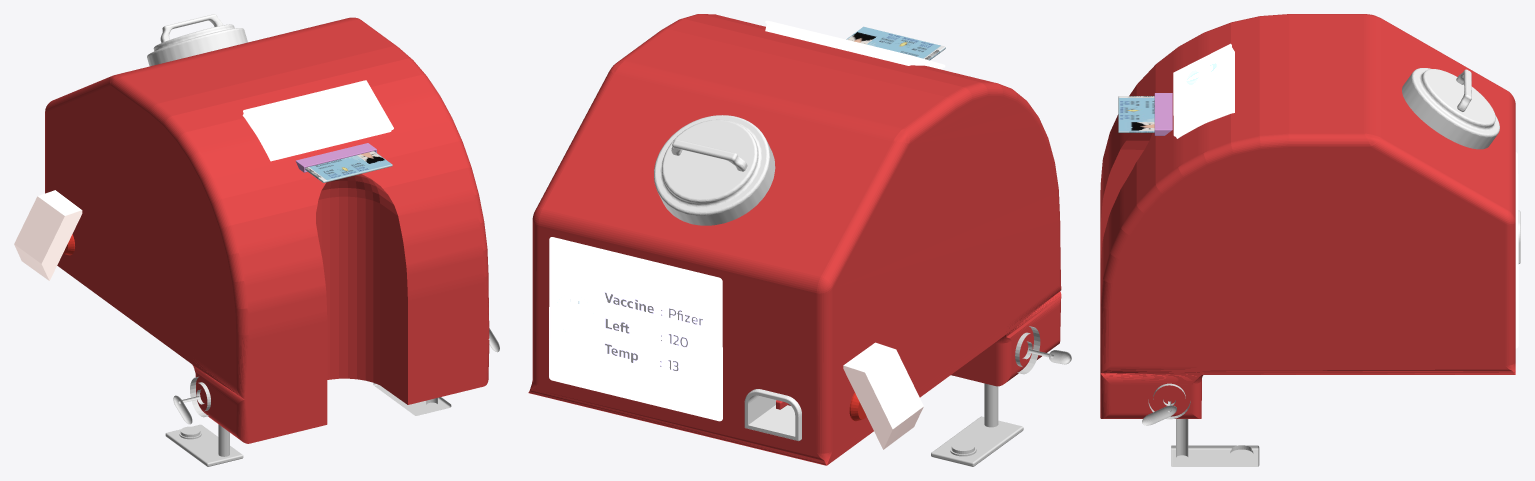
Rendered from prototype4.glb.
3 views of the same model, side by side, from view 1: azimuth 30°, elevation 25°; view 2: azimuth 150°, elevation 25°; view 3: azimuth 270°, elevation 25° (orthographic). The views are drawn at different scales.
Visible parts, largest first — view 1: Cube, Plane, Plane.003, Circle, Cylinder, Plane.004, Plane.002, Circle.001, Cylinder.002; view 2: Cube, Plane.001, Circle, Plane.003, Cylinder, Plug, Plane, Plane.004, Circle.001; view 3: Cube, Circle, Plane, Cylinder.002, Plane.004, Plane.002, Plane.001, Circle.002.
Boxes of the visible parts, bbox=[...] form: Cube: bbox=[45, 17, 489, 443]; Plane: bbox=[242, 80, 393, 161]; Plane.003: bbox=[14, 190, 82, 280]; Circle: bbox=[147, 14, 247, 66]; Cylinder: bbox=[165, 424, 243, 466]; Plane.004: bbox=[305, 151, 392, 182]; Plane.002: bbox=[295, 143, 376, 172]; Circle.001: bbox=[173, 376, 210, 424]; Cylinder.002: bbox=[373, 383, 451, 415]; Cube: bbox=[528, 14, 1061, 465]; Plane.001: bbox=[549, 237, 722, 421]; Circle: bbox=[654, 115, 775, 225]; Plane.003: bbox=[843, 342, 923, 449]; Cylinder: bbox=[931, 383, 1023, 466]; Plug: bbox=[744, 389, 801, 440]; Plane: bbox=[765, 20, 945, 69]; Plane.004: bbox=[846, 26, 945, 60]; Circle.001: bbox=[1015, 326, 1071, 374]; Cube: bbox=[1100, 14, 1515, 418]; Circle: bbox=[1402, 68, 1499, 149]; Plane: bbox=[1173, 43, 1234, 138]; Cylinder.002: bbox=[1171, 419, 1259, 466]; Plane.004: bbox=[1118, 96, 1154, 132]; Plane.002: bbox=[1154, 93, 1172, 135]; Plane.001: bbox=[1515, 152, 1518, 348]; Circle.002: bbox=[1142, 383, 1190, 425].
Size of the model in its own units: 13.84 by 13.15 by 15.03.
10 materials, 1 textured.
